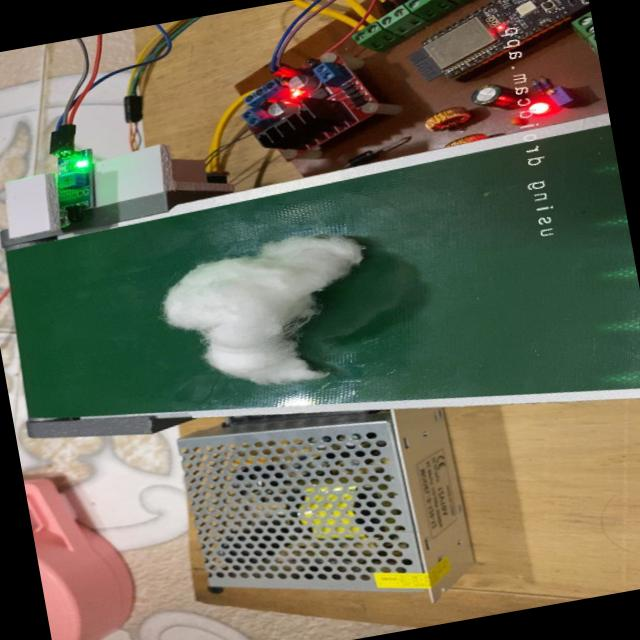cotton: (148, 220, 394, 410)
